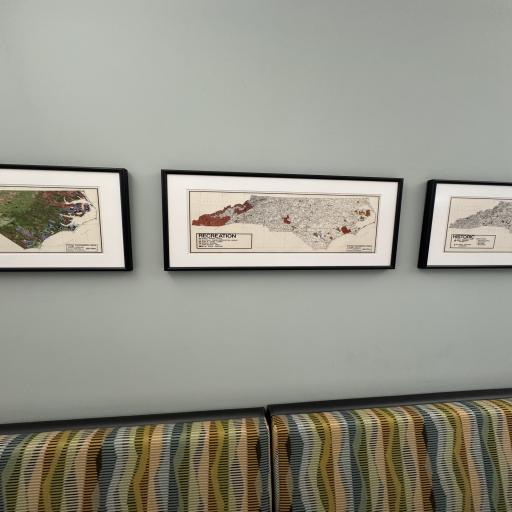bench: (0, 387, 510, 504)
poster: (160, 167, 397, 272), (0, 165, 133, 271), (426, 177, 508, 266)
